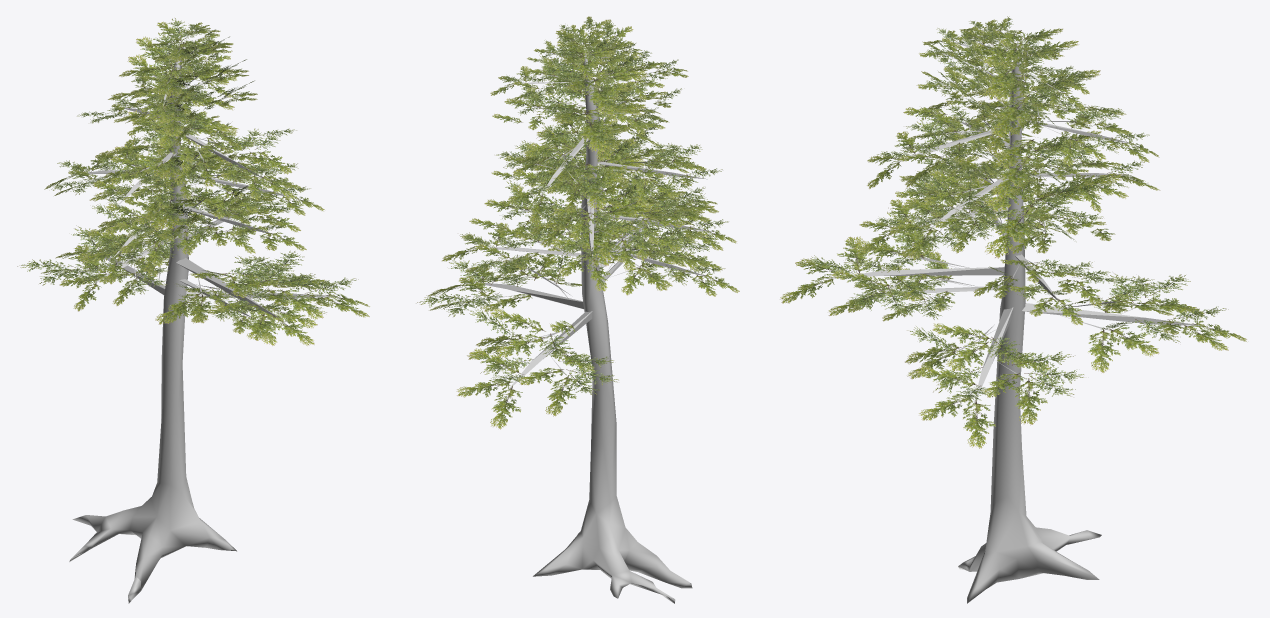
The model's file is TreeLeaf01.fbx.
The picture shows the model from 3 angles, left to right: view 1: azimuth 30°, elevation 25°; view 2: azimuth 150°, elevation 25°; view 3: azimuth 270°, elevation 25°; orthographic projection. The views are drawn at different scales.
Parts seen in each view (by area): view 1: Tree_Leaf_01; view 2: Tree_Leaf_01; view 3: Tree_Leaf_01.
Boxes of the visible parts, x1,y1,x2,y2 form: Tree_Leaf_01: [17, 18, 369, 603]; Tree_Leaf_01: [416, 16, 739, 603]; Tree_Leaf_01: [780, 16, 1246, 603].
Bounding box in the file's own units: 433 × 726 × 537.
